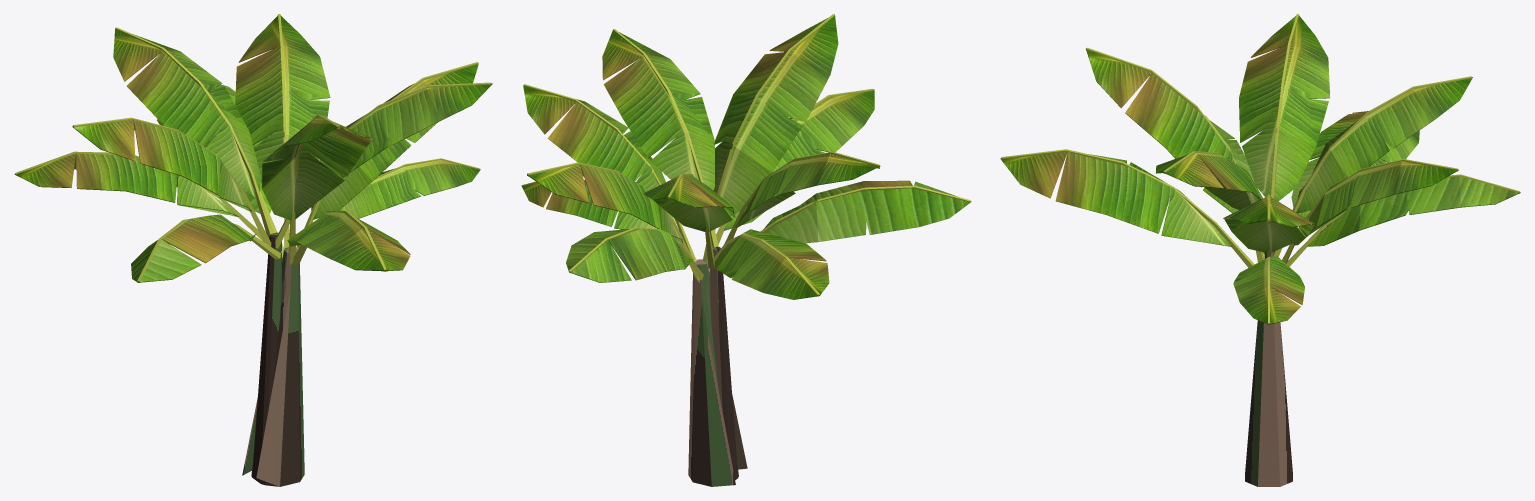
Rendered from banana tree.fbx.
3 views of the same model, side by side, from view 1: azimuth 30°, elevation 25°; view 2: azimuth 150°, elevation 25°; view 3: azimuth 270°, elevation 25° (orthographic). The views are drawn at different scales.
Visible parts, largest first — view 1: Cube, Plane.001, Plane.002, Plane.004, Plane.010, Plane.003, Plane.005, Plane.009, Plane.007, Plane.006, Plane, Cube.002 (+5 smaller); view 2: Plane.004, Plane.005, Cube, Plane.009, Plane, Plane.010, Plane.008, Plane.002, Plane.007, Plane.003, Plane.001, Plane.006 (+7 smaller); view 3: Plane.003, Plane.007, Plane.001, Plane.004, Cube, Plane.008, Plane.002, Plane.006, Plane.005, Plane, Plane.010, Cube.008 (+4 smaller).
Part boxes in pixels (<box>): Cube: <box>242,232,304,486</box>; Plane.001: <box>113,29,260,198</box>; Plane.002: <box>235,15,330,182</box>; Plane.004: <box>261,116,372,220</box>; Plane.010: <box>14,153,238,216</box>; Plane.003: <box>72,120,251,211</box>; Plane.005: <box>315,83,492,197</box>; Plane.009: <box>131,214,256,282</box>; Plane.007: <box>287,210,410,271</box>; Plane.006: <box>340,160,479,218</box>; Plane: <box>311,64,478,219</box>; Cube.002: <box>115,27,273,238</box>; Plane.004: <box>713,14,838,215</box>; Plane.005: <box>602,30,714,190</box>; Cube: <box>688,246,747,486</box>; Plane.009: <box>764,180,971,243</box>; Plane: <box>523,86,678,229</box>; Plane.010: <box>714,229,829,299</box>; Plane.008: <box>566,229,692,282</box>; Plane.002: <box>527,164,682,243</box>; Plane.007: <box>723,90,874,230</box>; Plane.003: <box>734,153,880,228</box>; Plane.001: <box>643,175,734,231</box>; Plane.006: <box>522,182,656,229</box>; Plane.003: <box>1239,15,1330,201</box>; Plane.007: <box>1000,152,1231,246</box>; Plane.001: <box>1296,77,1472,213</box>; Plane.004: <box>1086,48,1238,213</box>; Cube: <box>1245,252,1292,486</box>; Plane.008: <box>1307,176,1520,246</box>; Plane.002: <box>1292,161,1458,245</box>; Plane.006: <box>1233,256,1304,324</box>; Plane.005: <box>1156,153,1262,209</box>; Plane: <box>1223,196,1315,252</box>; Plane.010: <box>1291,111,1419,217</box>; Cube.008: <box>1001,149,1254,267</box>.
Bounding box in the file's own units: 1677 × 1671 × 1908.
2 materials, 2 textured.
